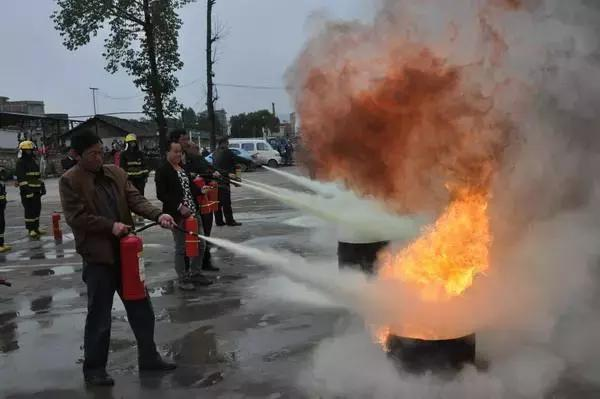fire: (373, 118, 504, 297)
